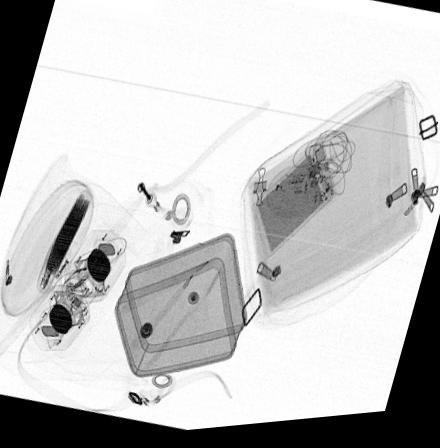Powerbank: (253, 142, 334, 263), (35, 188, 92, 293)
